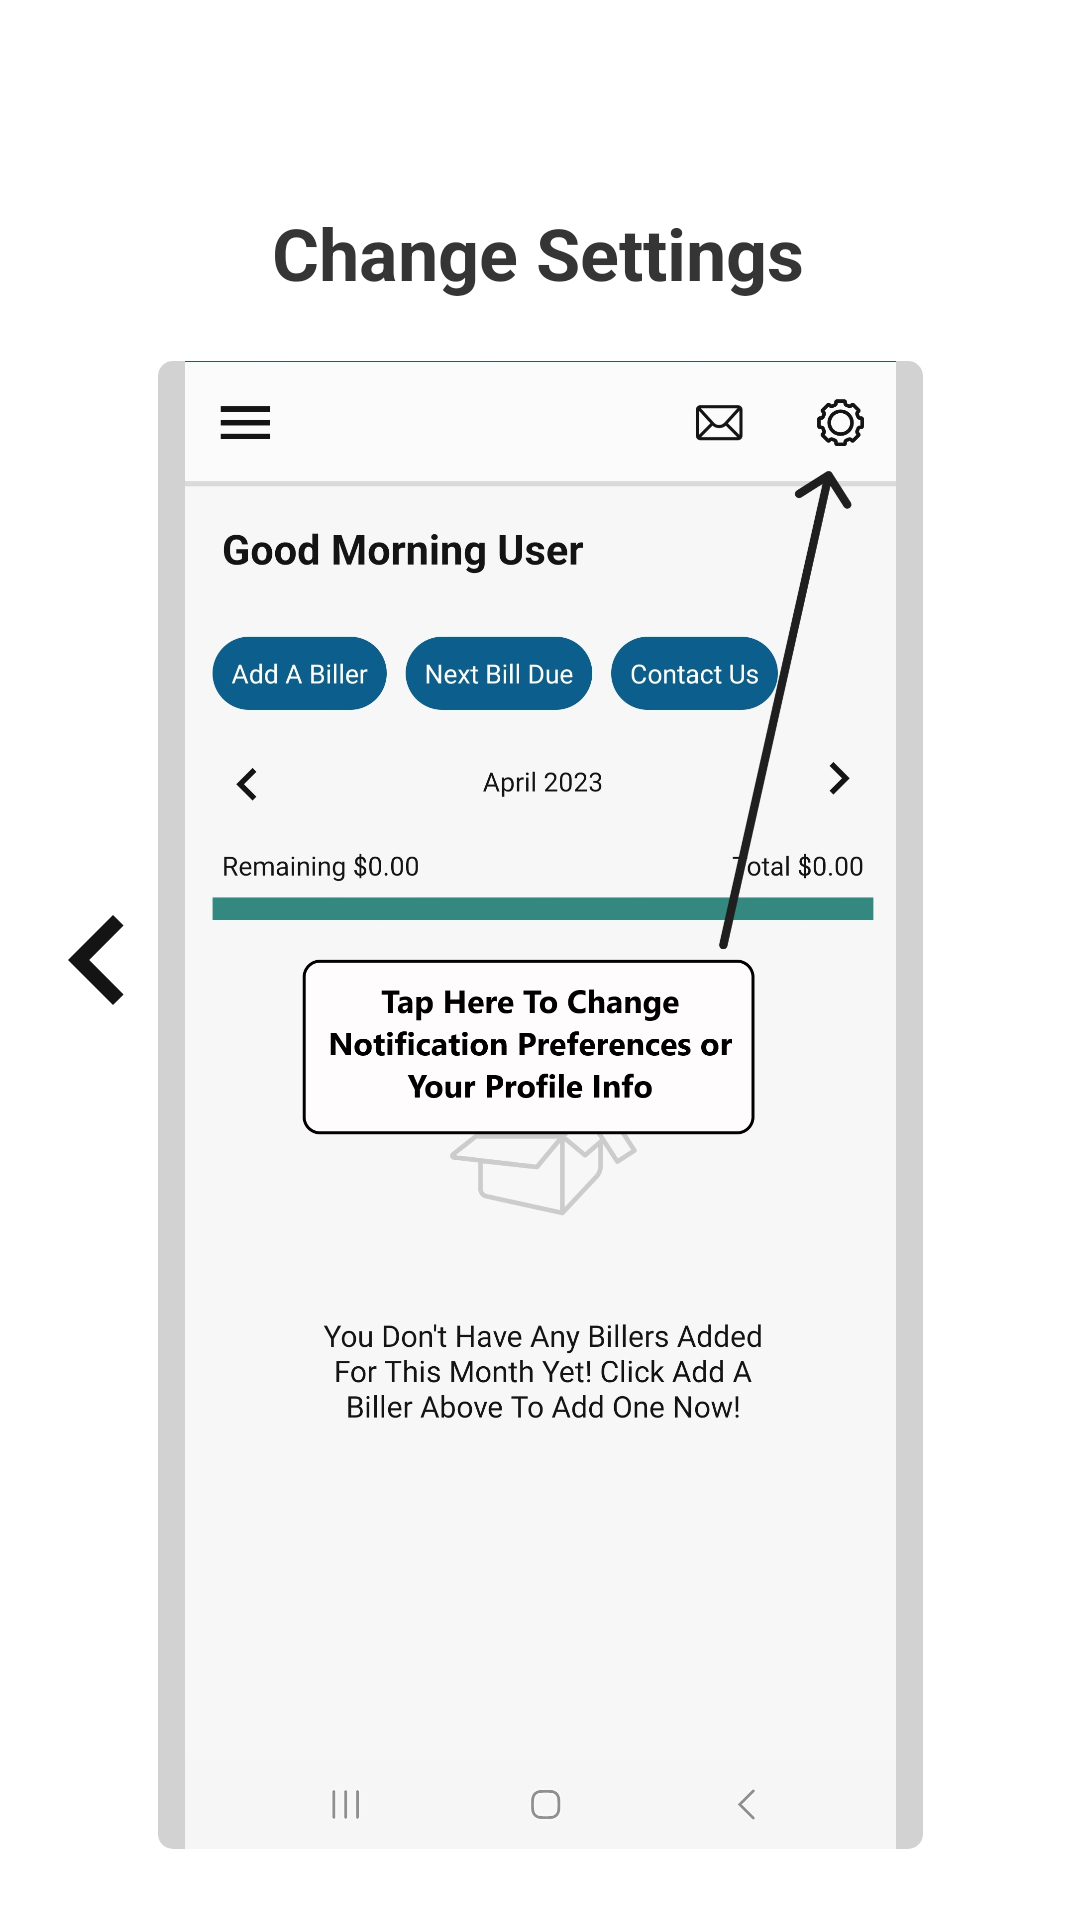

Screen size 1080 × 1920. Icon name, then its center in pixels as point (x, y):
Back Arrow: point (126, 960)
